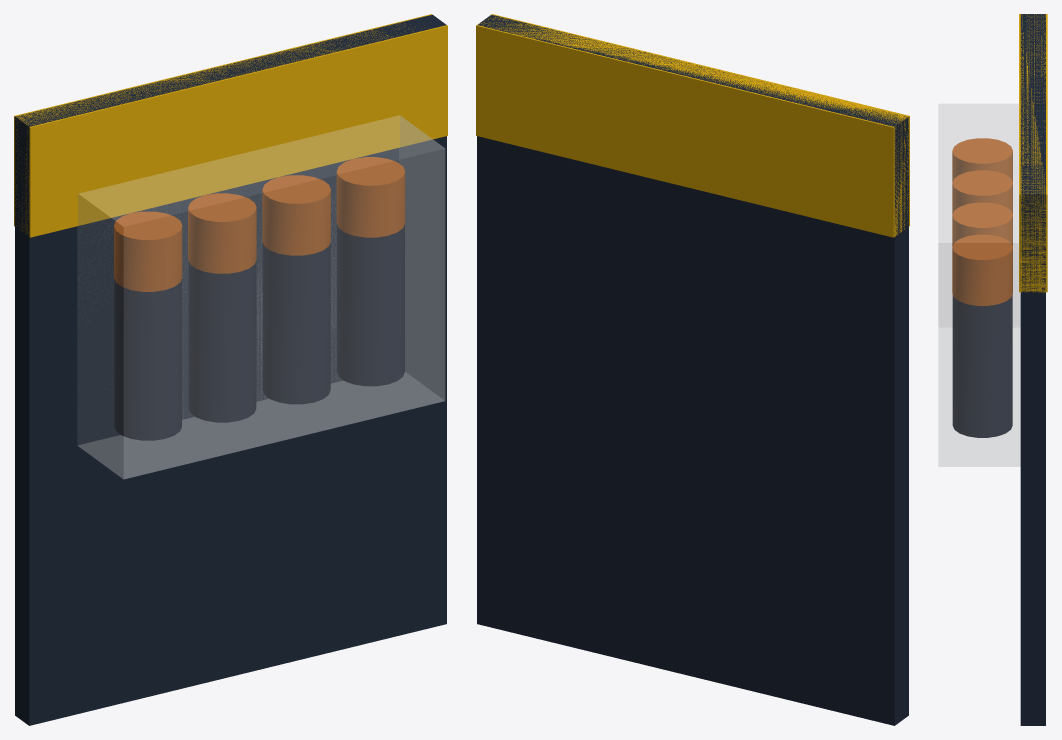
Rendered from battery-pack.glb.
3 renders of one model, left to right at view 1: azimuth 30°, elevation 25°; view 2: azimuth 150°, elevation 25°; view 3: azimuth 270°, elevation 25°, orthographic. The views are drawn at different scales.
Parts seen in each view (by area): view 1: Blister_Card, Blister_Dome, Card_Header, Battery_03_Body, Battery_02_Body, Battery_04_Body, Battery_01_Body, Battery_04_Top, Battery_02_Top, Battery_03_Top, Battery_01_Top; view 2: Blister_Card, Card_Header; view 3: Blister_Dome, Blister_Card, Battery_04_Body, Card_Header, Battery_04_Top, Battery_01_Top, Battery_02_Top, Battery_03_Top.
Part boxes in pixels (left/top/right/bottom): Blister_Card: left=15, top=14, right=446, bottom=725; Blister_Dome: left=77, top=115, right=445, bottom=479; Card_Header: left=14, top=14, right=447, bottom=237; Battery_03_Body: left=262, top=242, right=330, bottom=404; Battery_02_Body: left=188, top=261, right=256, bottom=422; Battery_04_Body: left=337, top=224, right=404, bottom=386; Battery_01_Body: left=114, top=279, right=181, bottom=440; Battery_04_Top: left=336, top=157, right=405, bottom=237; Battery_02_Top: left=188, top=193, right=256, bottom=273; Battery_03_Top: left=262, top=175, right=330, bottom=255; Battery_01_Top: left=114, top=211, right=182, bottom=291; Blister_Card: left=477, top=14, right=908, bottom=725; Card_Header: left=476, top=14, right=909, bottom=237; Blister_Dome: left=938, top=103, right=1020, bottom=466; Blister_Card: left=1020, top=14, right=1045, bottom=725; Battery_04_Body: left=952, top=295, right=1012, bottom=437; Card_Header: left=1019, top=14, right=1047, bottom=292; Battery_04_Top: left=952, top=234, right=1012, bottom=305; Battery_01_Top: left=952, top=138, right=1012, bottom=182; Battery_02_Top: left=952, top=170, right=1012, bottom=214; Battery_03_Top: left=952, top=202, right=1012, bottom=246.
Size of the model in its own units: 0.135 by 0.185 by 0.0345.
